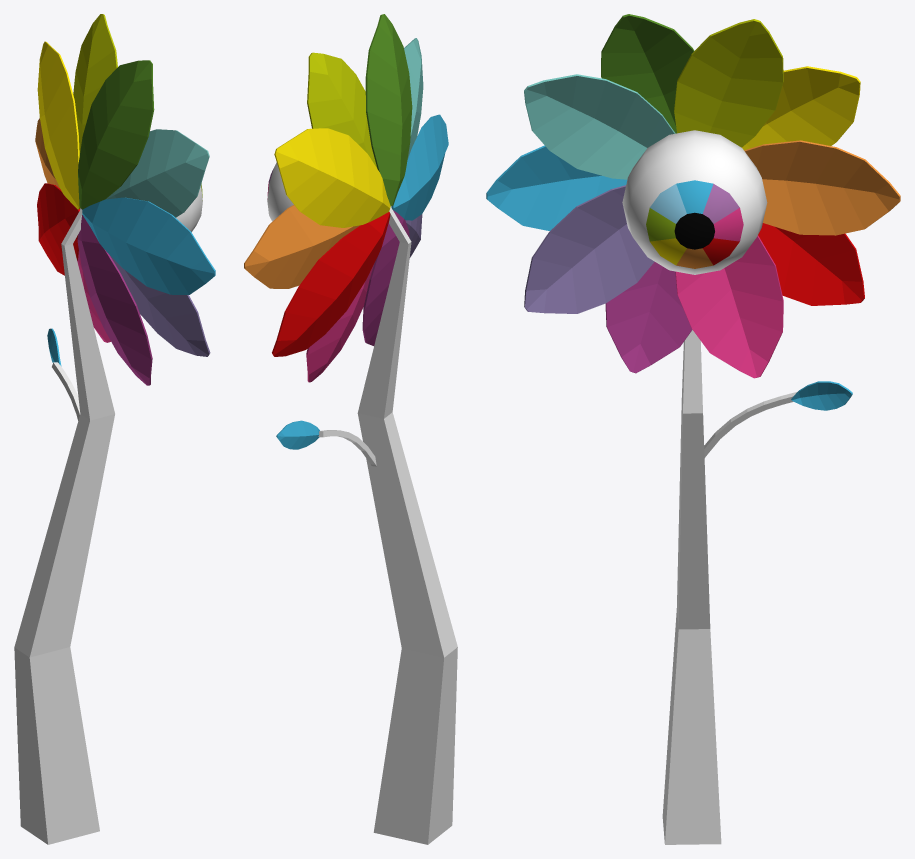
File: SM_Flor_Med.fbx
The picture shows the model from 3 angles, left to right: view 1: azimuth 30°, elevation 25°; view 2: azimuth 150°, elevation 25°; view 3: azimuth 270°, elevation 25°; orthographic projection. The views are drawn at different scales.
Visible parts, largest first — view 1: FLOR_MED_PETALOS, FLOR_MED_TALLO; view 2: FLOR_MED_PETALOS, FLOR_MED_TALLO, FLOR_MED_HOJAS; view 3: FLOR_MED_PETALOS, FLOR_MED_TALLO, FLOR_MED_HOJAS.
Boxes of the visible parts, x1,y1,x2,y2 form: FLOR_MED_PETALOS: [35, 14, 215, 385]; FLOR_MED_TALLO: [14, 209, 114, 844]; FLOR_MED_PETALOS: [244, 14, 448, 382]; FLOR_MED_TALLO: [318, 207, 457, 844]; FLOR_MED_HOJAS: [276, 420, 319, 449]; FLOR_MED_PETALOS: [486, 14, 900, 378]; FLOR_MED_TALLO: [662, 330, 796, 844]; FLOR_MED_HOJAS: [791, 381, 852, 410].
Size of the model in its own units: 104 by 438 by 194.
